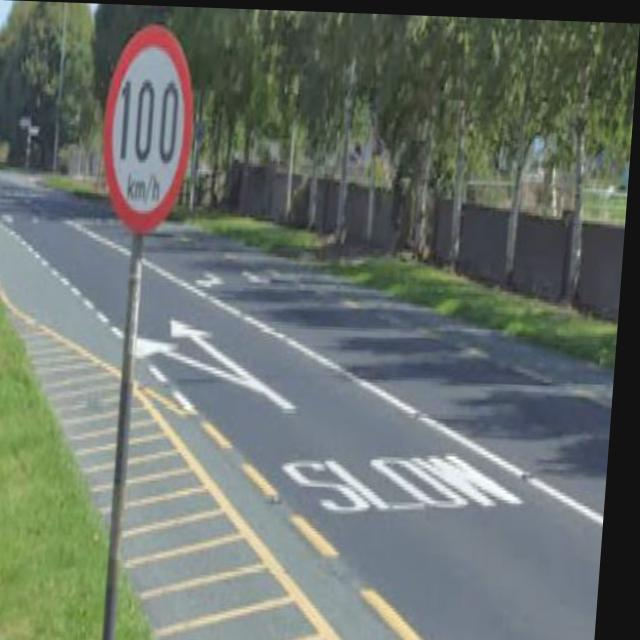limit100: (91, 14, 207, 230)
